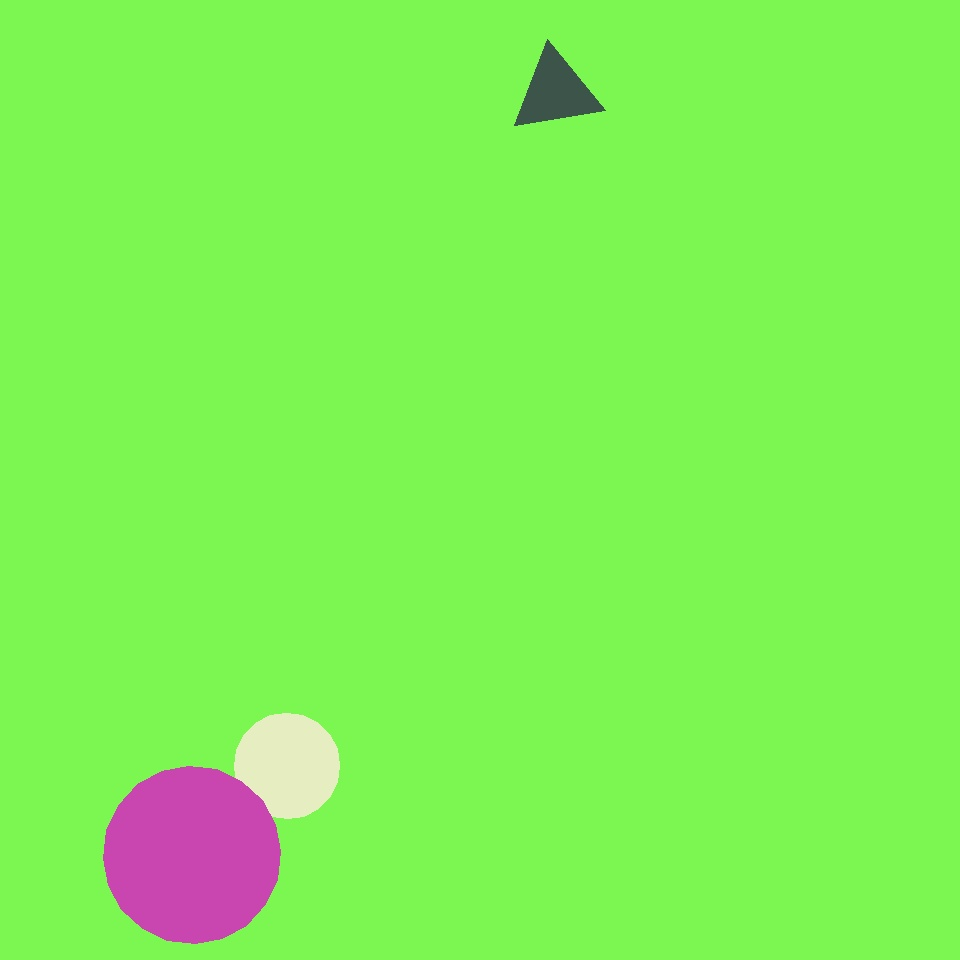circle: (674, 247, 908, 502), (67, 495, 156, 591), (511, 49, 602, 135)
square: (283, 82, 512, 310)
triangle: (104, 766, 281, 944), (9, 11, 183, 185), (450, 216, 556, 322), (234, 714, 340, 818)
